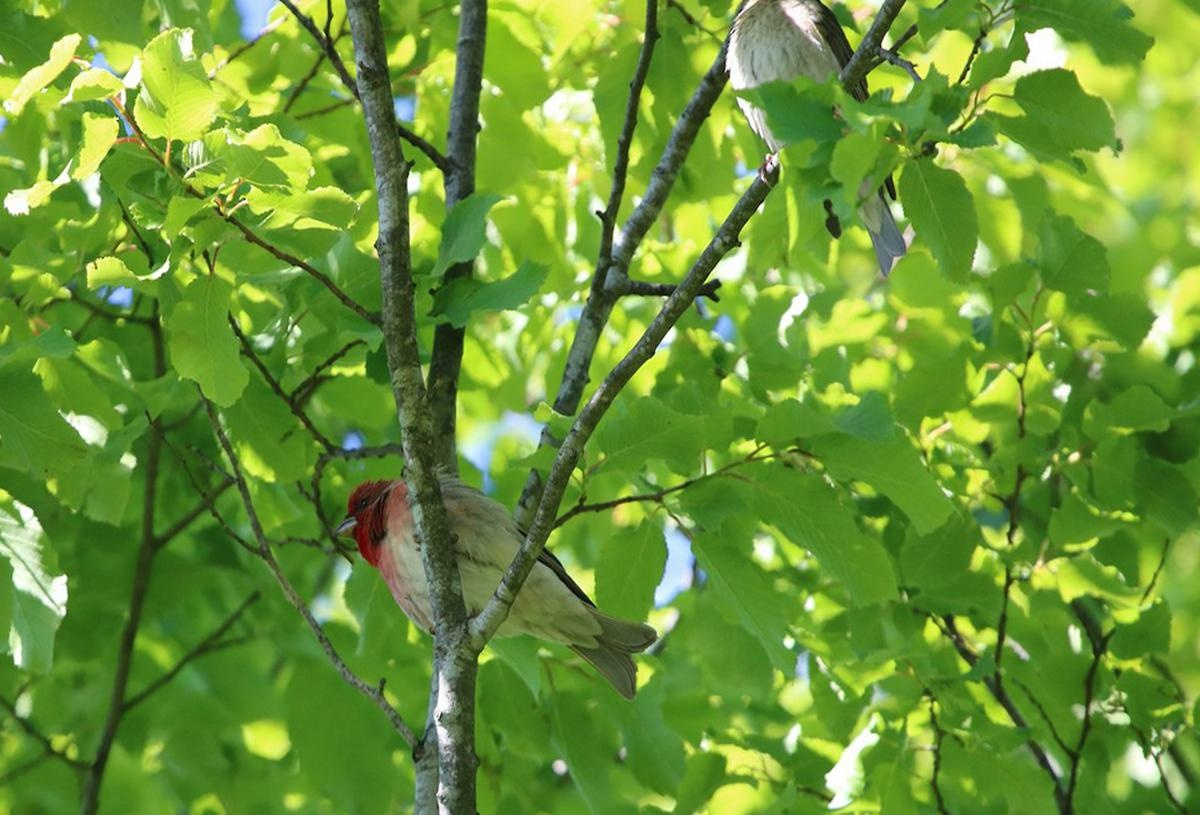rosefinch: (333, 457, 621, 682)
